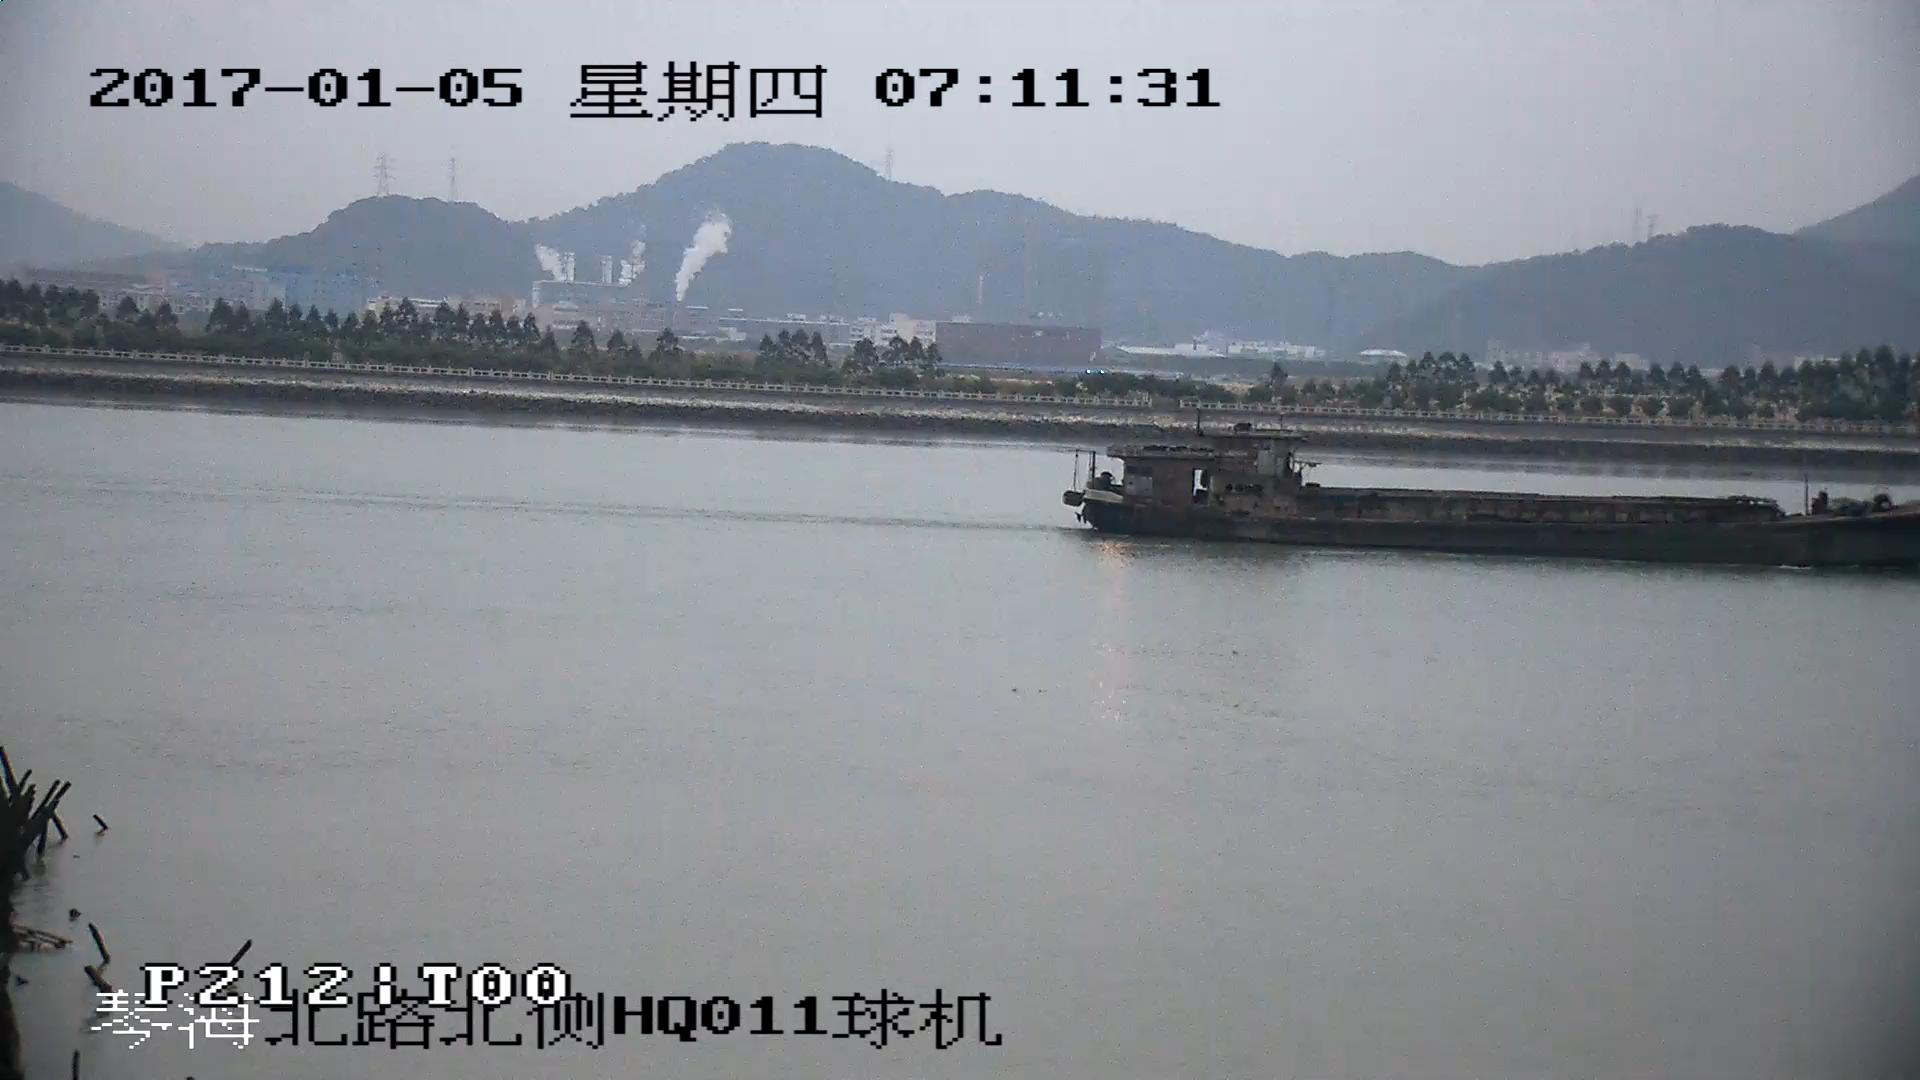bulk cargo carrier: (1057, 420, 1920, 569)
